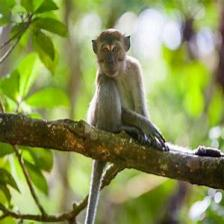monkey: (89, 28, 166, 180)
